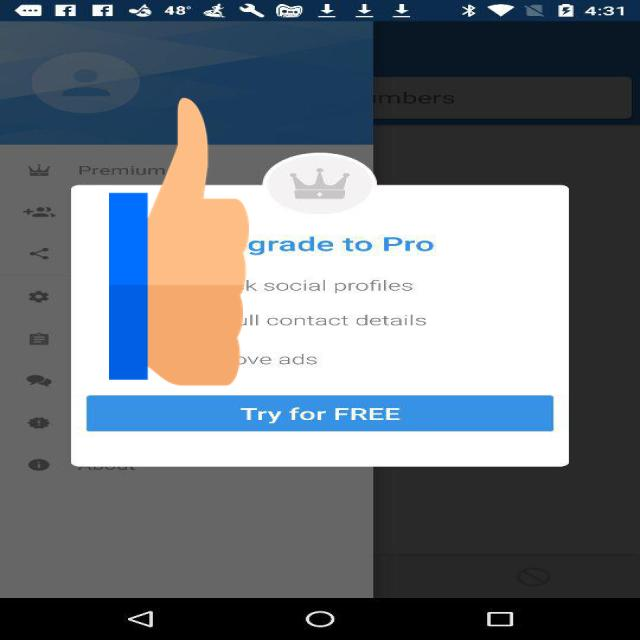privacy zuckering: (109, 90, 249, 392)
